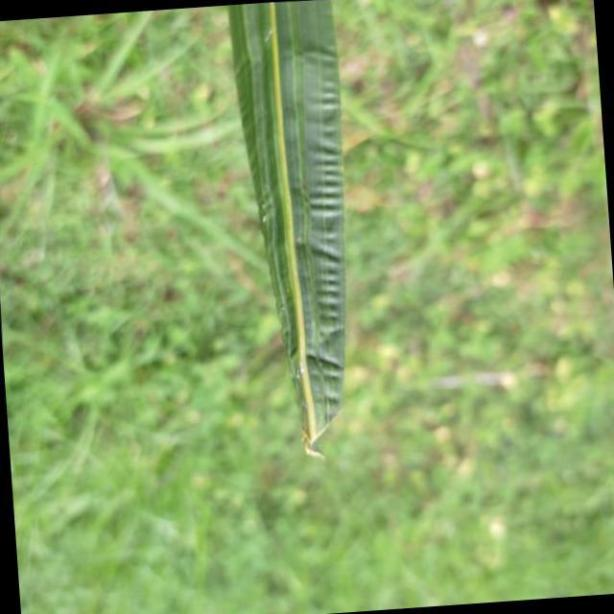Boron: (222, 0, 346, 457)
